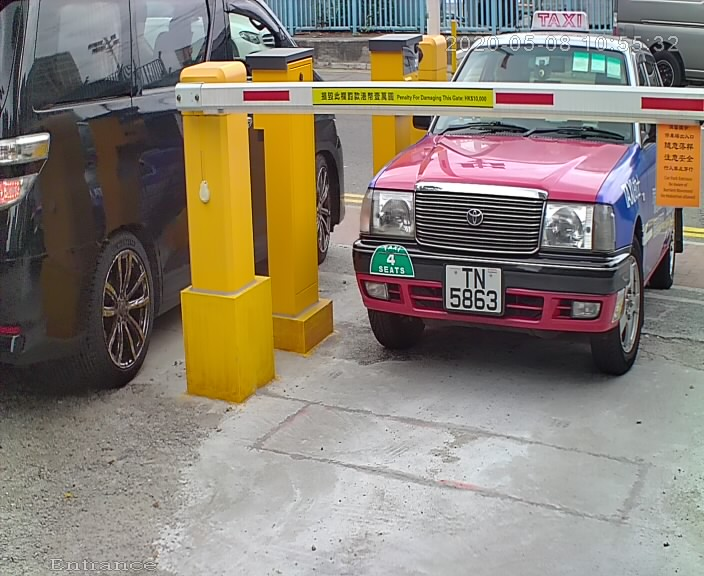taxi: (350, 18, 704, 366)
taxi_mark: (359, 234, 424, 290)
